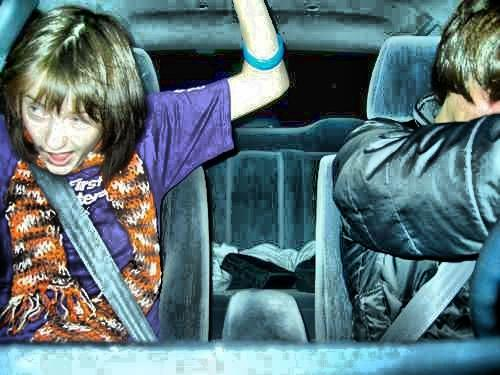seatbelt: (28, 157, 156, 339), (370, 250, 477, 335)
